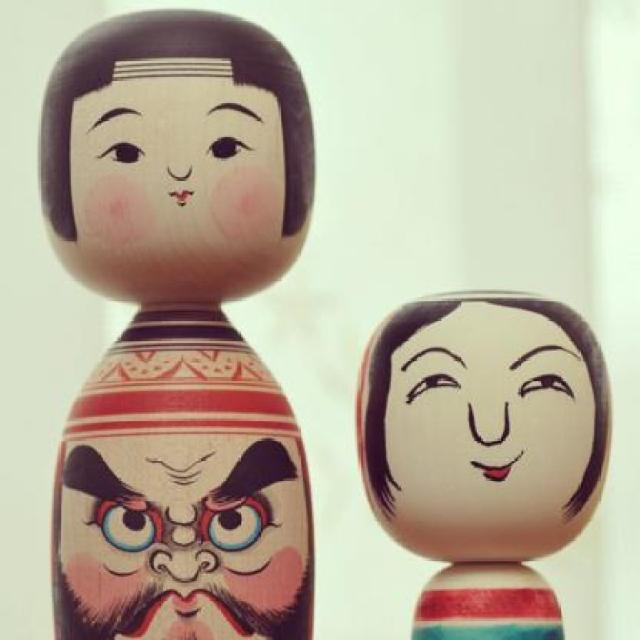Person: (49, 303, 313, 637), (358, 290, 610, 639), (29, 8, 316, 302)
